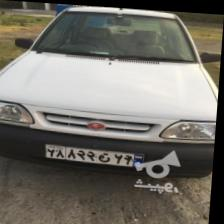plate: (46, 143, 147, 168)
